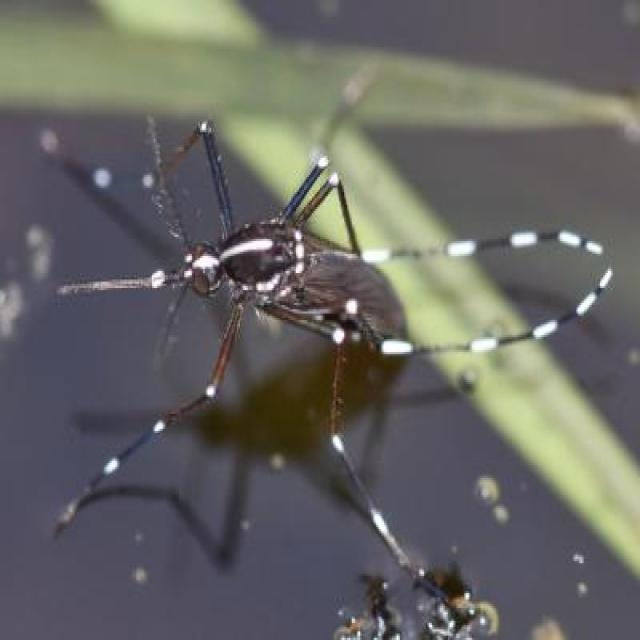antennae: (134, 113, 193, 253)
body: (189, 217, 410, 349)
insect: (42, 102, 607, 597)
legs: (43, 344, 415, 536), (358, 215, 612, 350), (167, 115, 370, 244)
mouthpart: (54, 245, 195, 324)
wings: (292, 243, 411, 336)
